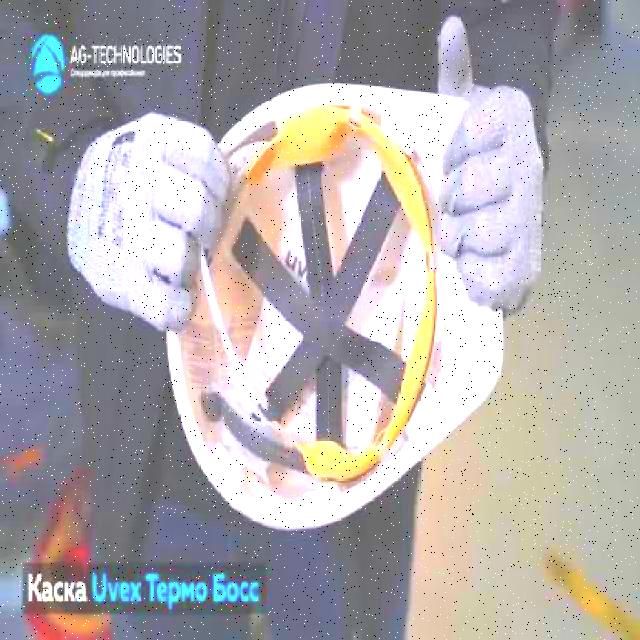Gloves: (66, 107, 232, 335), (432, 8, 546, 321)
Helmet: (164, 78, 504, 536)
